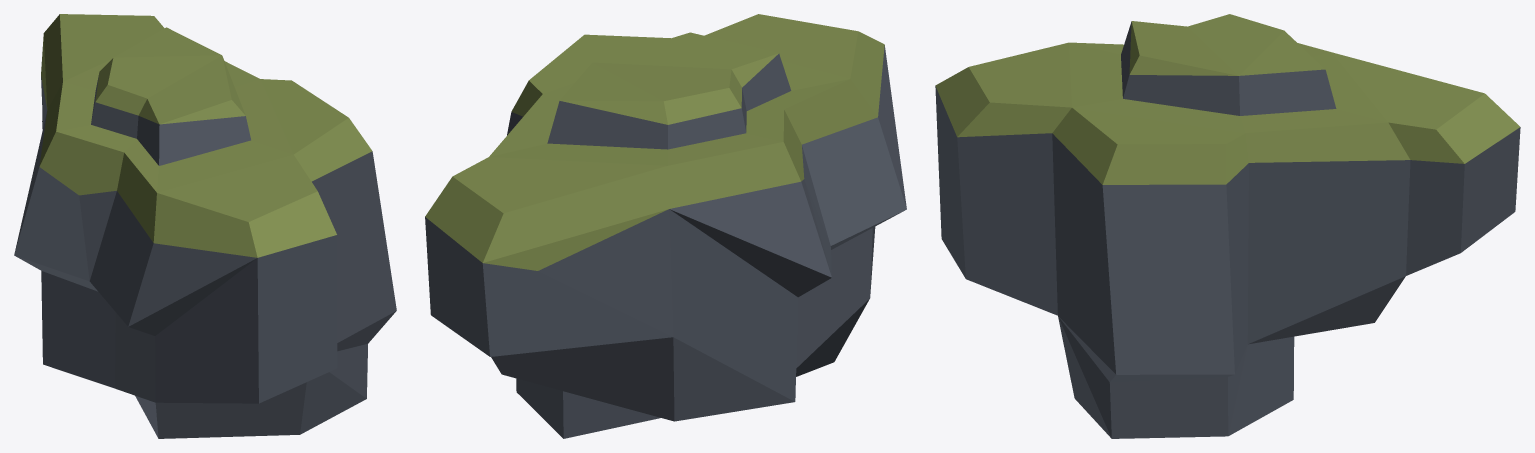
File: SM_Env_Generic_Cliffs_05.glb
3 renders of one model, left to right at view 1: azimuth 30°, elevation 25°; view 2: azimuth 150°, elevation 25°; view 3: azimuth 270°, elevation 25°, orthographic. The views are drawn at different scales.
Visible parts, largest first — view 1: SM_Env_Generic_Cliffs_05; view 2: SM_Env_Generic_Cliffs_05; view 3: SM_Env_Generic_Cliffs_05.
Boxes of the visible parts, x1,y1,x2,y2 form: SM_Env_Generic_Cliffs_05: [14, 14, 396, 438]; SM_Env_Generic_Cliffs_05: [425, 14, 906, 438]; SM_Env_Generic_Cliffs_05: [935, 14, 1520, 438].
Size of the model in its own units: 0.7801 by 0.7369 by 1.19.
Materials: 1 (1 with a texture image).
